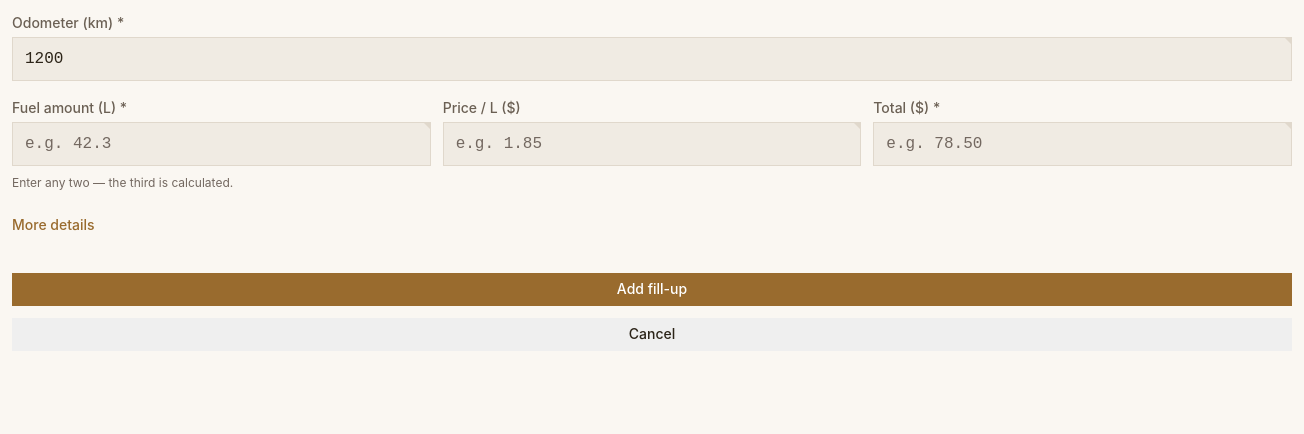
Test: QuickFillForm › shows tank-to-tank efficiency and converts intervening partial fuel
The image size is (1304, 434).
Replace the text in the field labelled "Odometer (km) *" with "1500": point(652, 59) [12, 37, 1292, 81]
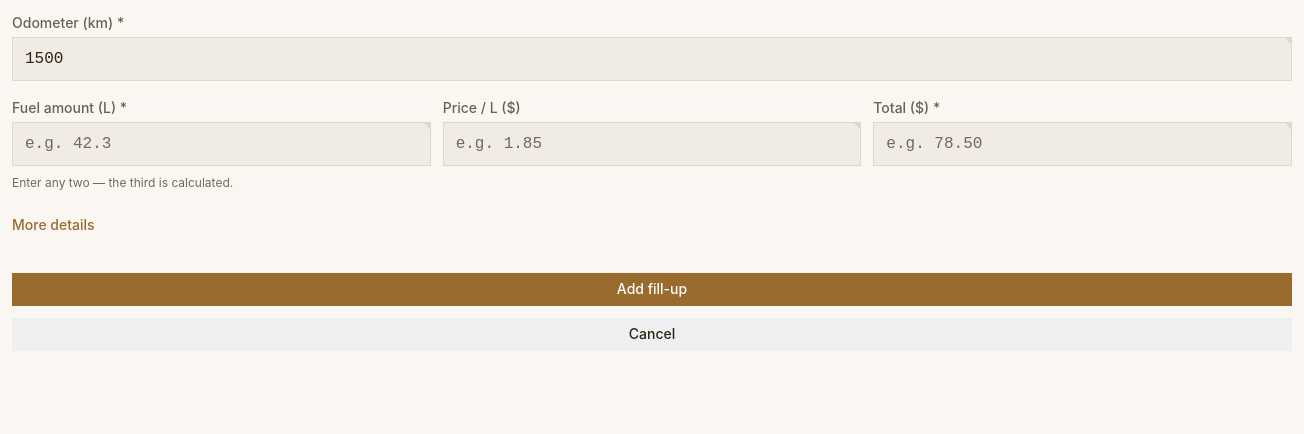
In the field labelled "Fuel amount (L) *": point(221, 144) [12, 122, 431, 166], type "30"
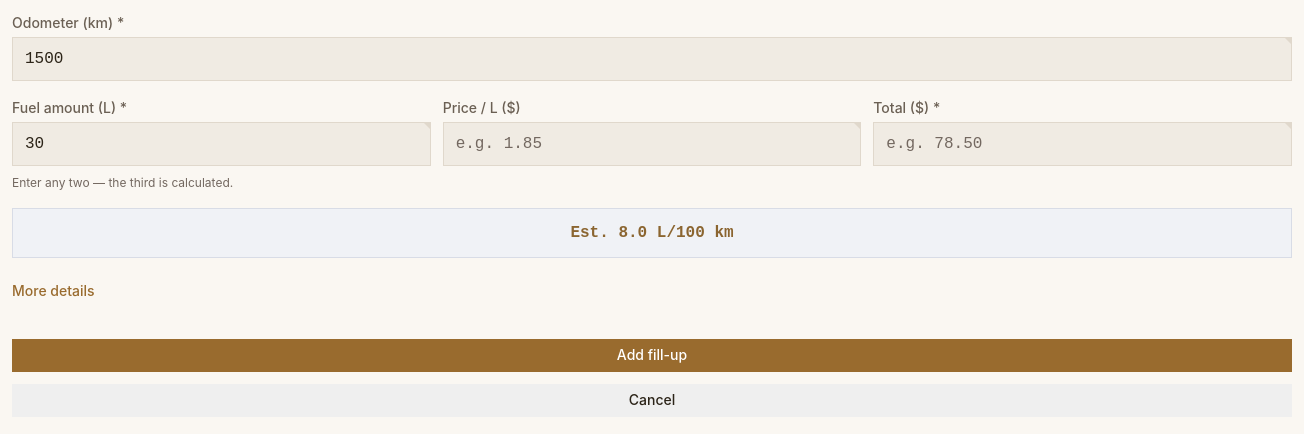
Now the text "Est. 8.0 L/100 km" is shown, box [12, 208, 1292, 258]
